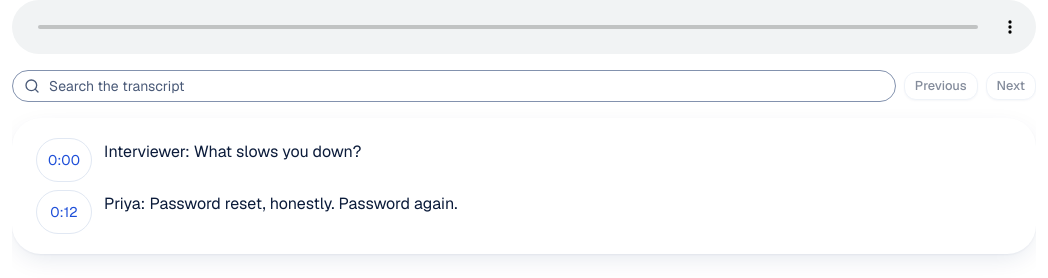
Scenario: transcript search › says so when nothing matches, and ignores one-character queries
The width and height of the screenshot is (1048, 278).
Type "zzz" into the field labelled "Search the transcript" at (454, 86), box [12,70,896,102]
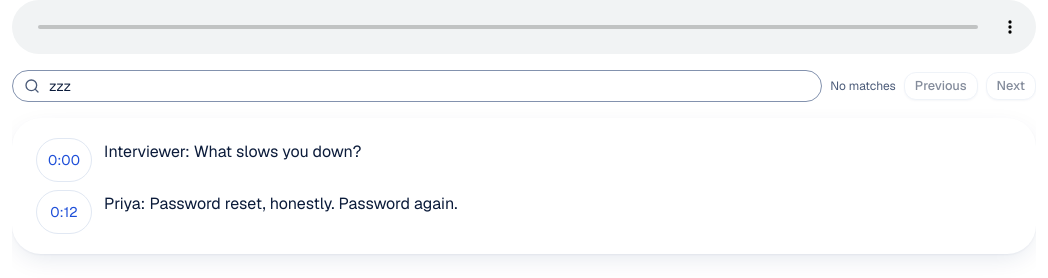
Expected: the button with aria-label "Next match" is disabled, [986,72,1036,100]
Expected: the message reads "No matches", [830,78,896,94]
Replace the text in the field named "Search the transcript" with "p" at (417, 86), box [12,70,822,102]
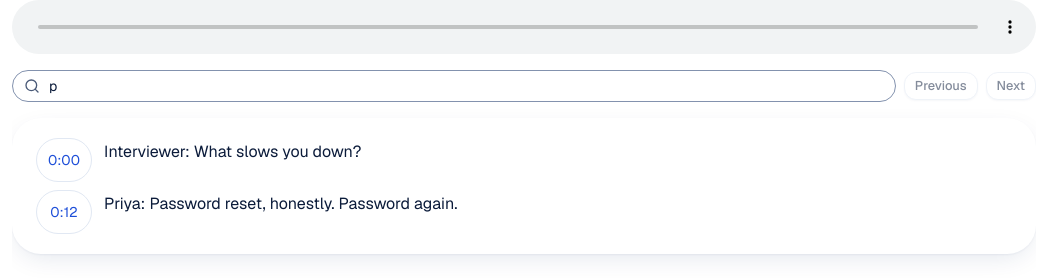
Expected: the message "No matches" is gone
